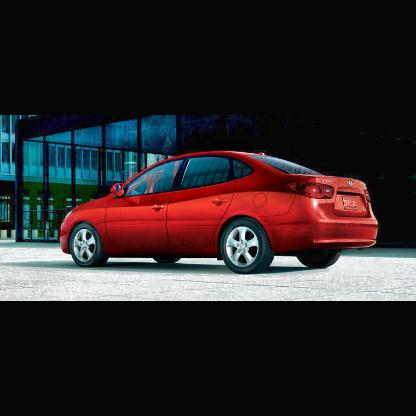Hyundai Elantra Sedan 2007: (60, 152, 380, 281)
